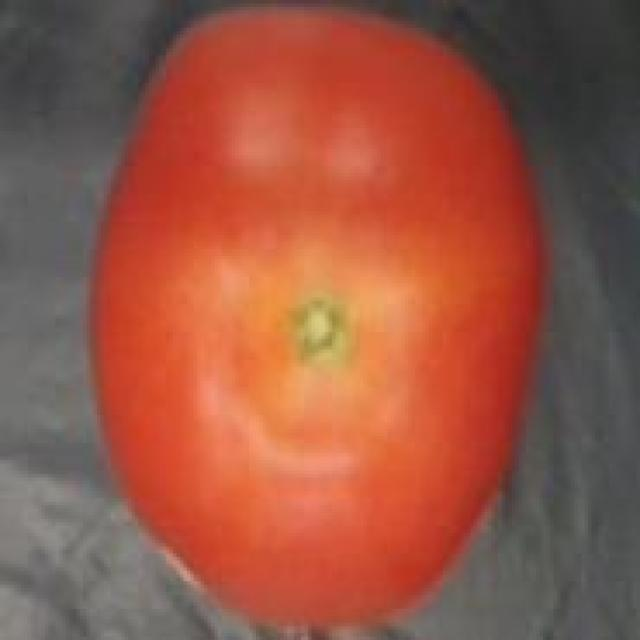ripe tomato: (76, 0, 554, 640)
